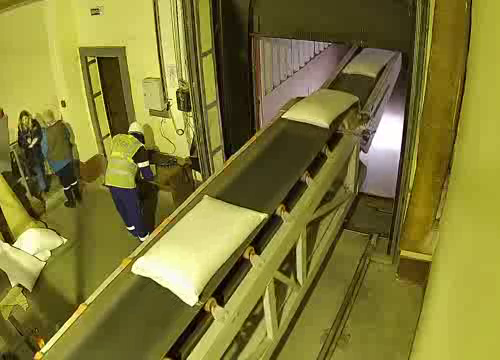bag: (130, 192, 271, 308), (280, 86, 360, 130), (343, 45, 398, 78)
